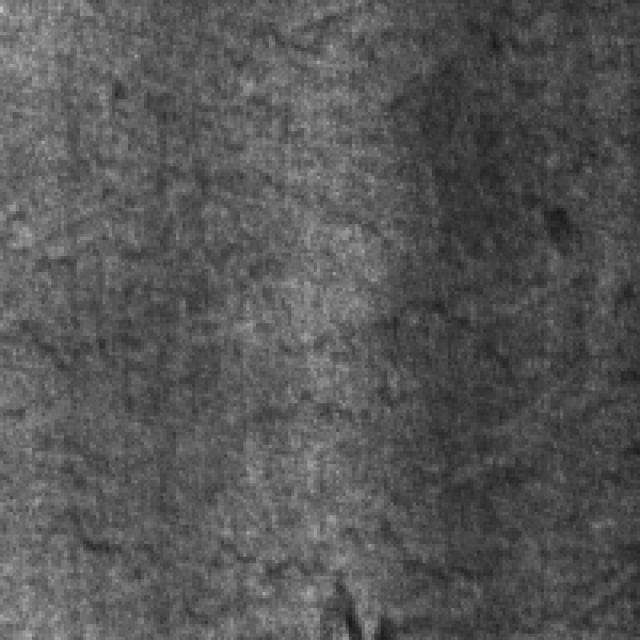crazing: (3, 150, 624, 407), (61, 464, 525, 627)
